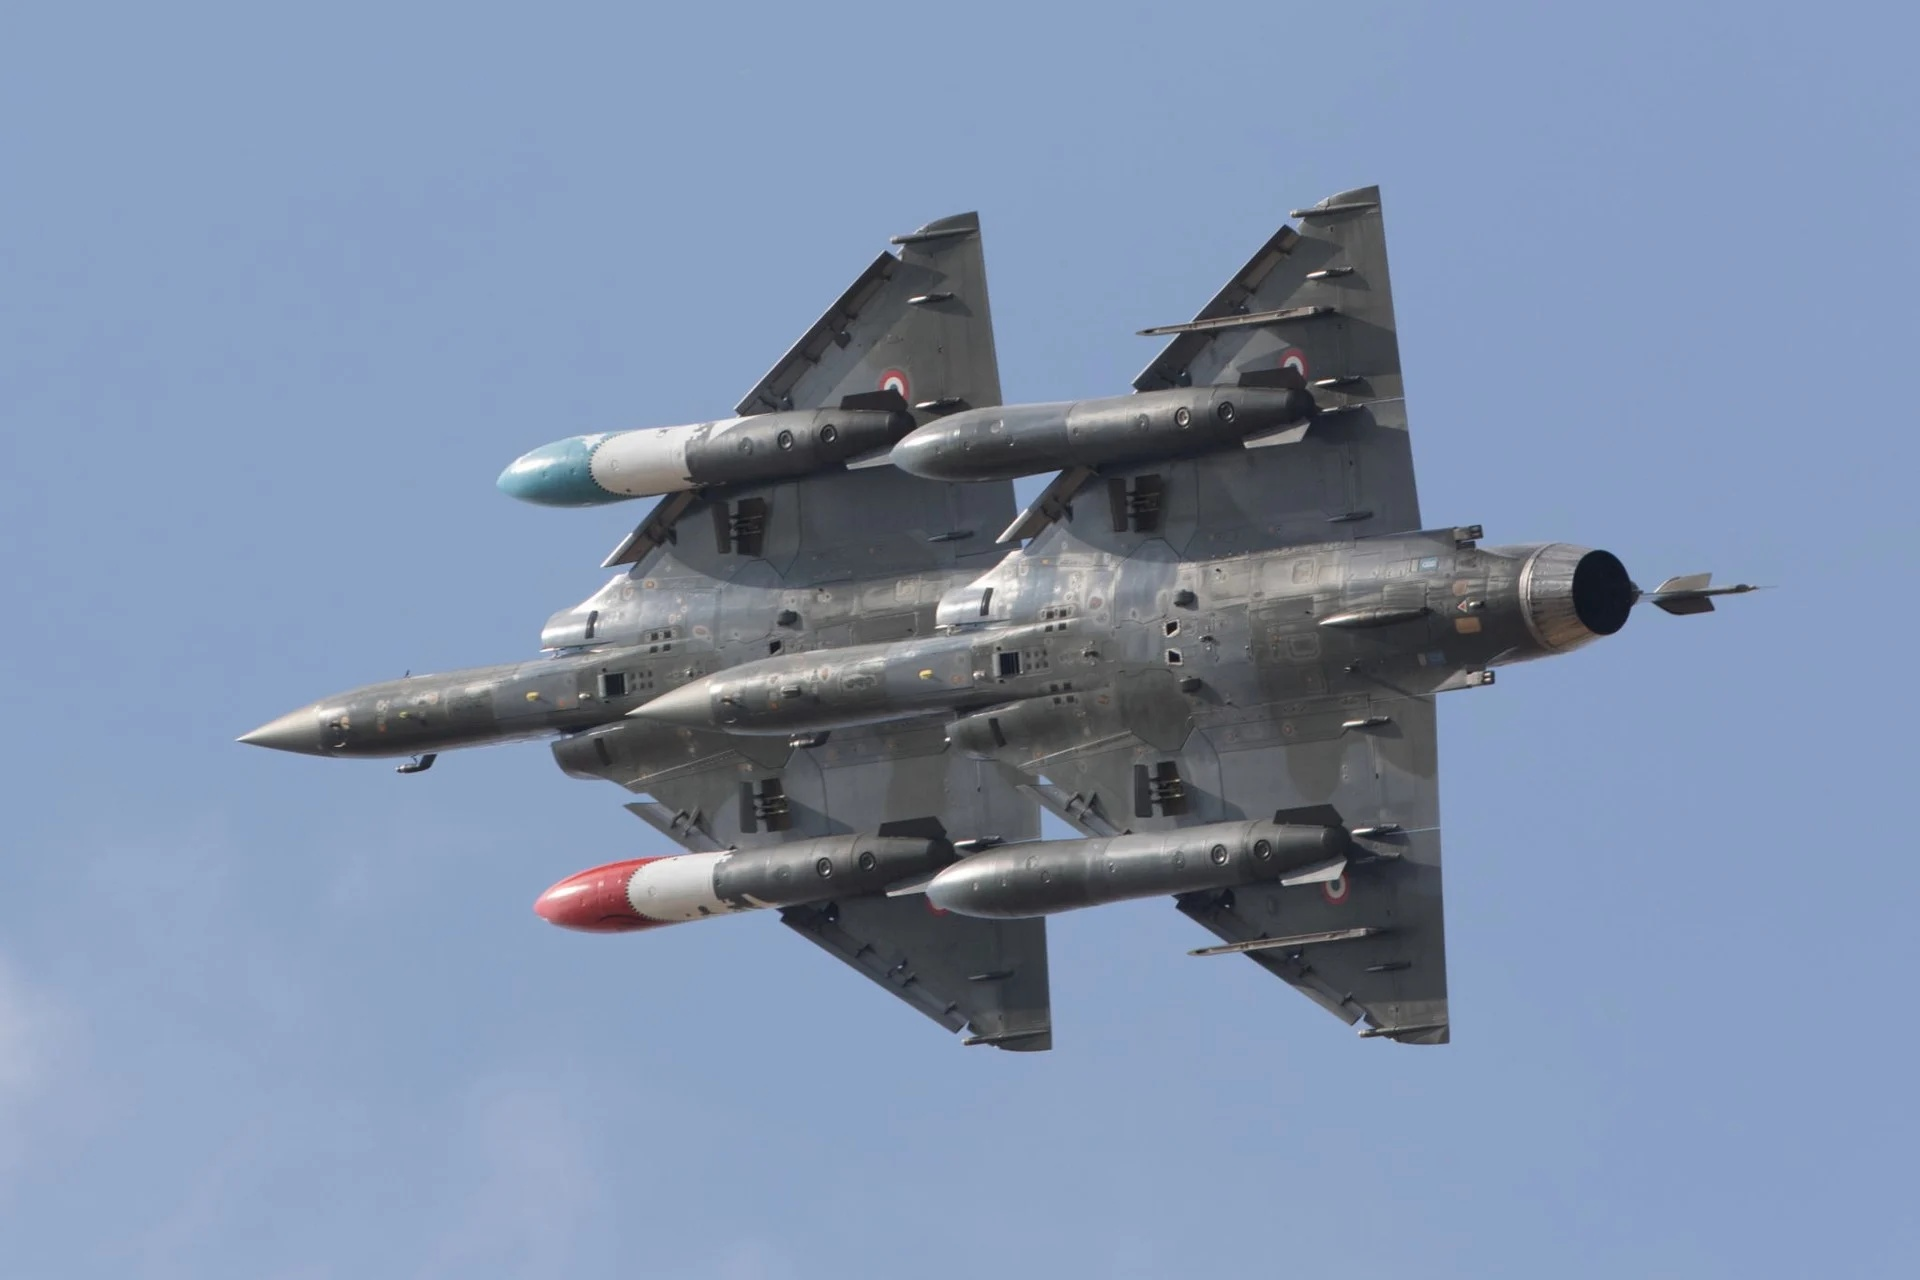Mirage2000: (623, 186, 1777, 1046), (231, 211, 1051, 1053)
